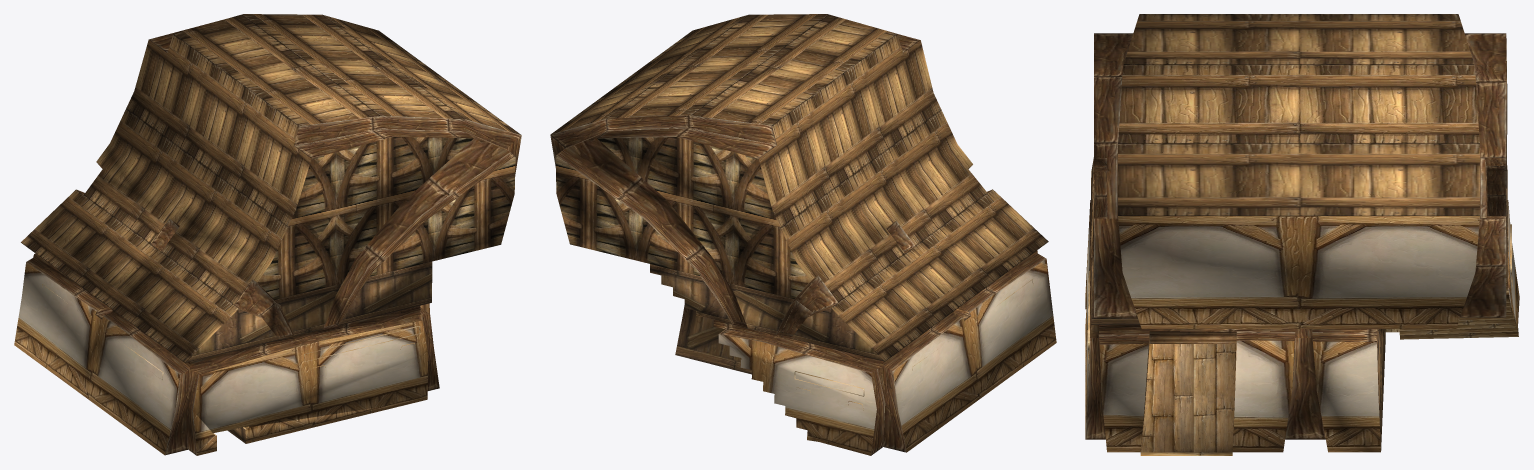
The model's file is stormwind_067.fbx.
3 renders of one model, left to right at view 1: azimuth 30°, elevation 25°; view 2: azimuth 150°, elevation 25°; view 3: azimuth 270°, elevation 25°, orthographic. The views are drawn at different scales.
Parts seen in each view (by area): view 1: stormwind_067_55, stormwind_067_48, stormwind_067_49, stormwind_067_53, stormwind_067_56; view 2: stormwind_067_55, stormwind_067_48, stormwind_067_49, stormwind_067_53, stormwind_067_56; view 3: stormwind_067_55, stormwind_067_48, stormwind_067_53, stormwind_067_51, stormwind_067_56, stormwind_067_49.
Boxes of the visible parts, x1,y1,x2,y2 form: stormwind_067_55: [21, 14, 520, 362]; stormwind_067_48: [14, 262, 427, 455]; stormwind_067_49: [257, 137, 515, 313]; stormwind_067_53: [26, 20, 521, 455]; stormwind_067_56: [185, 261, 432, 443]; stormwind_067_55: [551, 14, 1048, 361]; stormwind_067_48: [696, 259, 1056, 455]; stormwind_067_49: [555, 137, 810, 298]; stormwind_067_53: [550, 34, 1046, 455]; stormwind_067_56: [650, 264, 884, 374]; stormwind_067_55: [1118, 14, 1479, 215]; stormwind_067_48: [1085, 202, 1519, 452]; stormwind_067_53: [1085, 33, 1518, 455]; stormwind_067_51: [1141, 344, 1236, 452]; stormwind_067_56: [1085, 157, 1507, 450]; stormwind_067_49: [1094, 38, 1507, 453].
Bounding box in the file's own units: 18.05 × 13.56 × 14.85.
